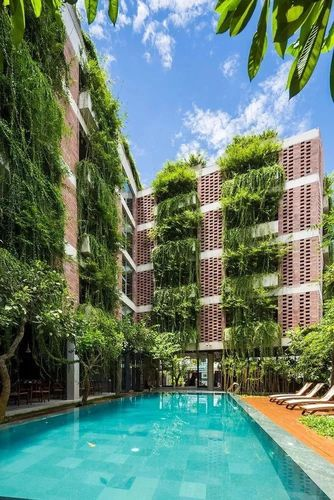buildings: (260, 142, 327, 372), (181, 174, 239, 423), (115, 170, 161, 337)
